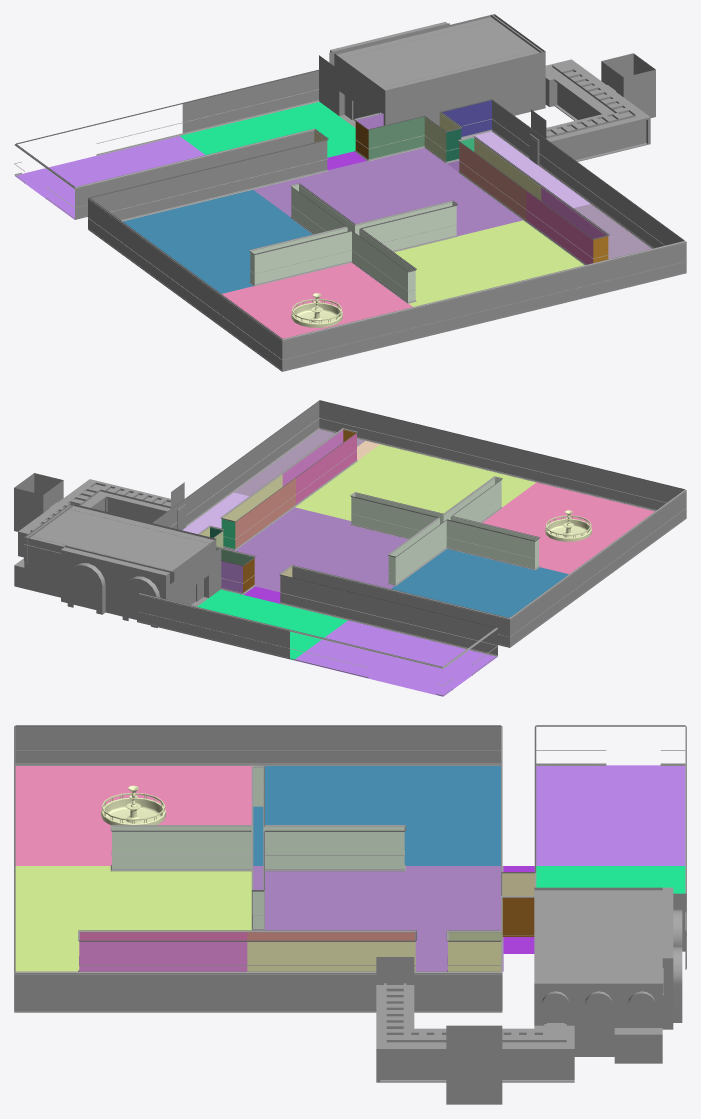
File: Level2.2.fbx
3 renders of one model, top to bottom at view 1: azimuth 30°, elevation 25°; view 2: azimuth 150°, elevation 25°; view 3: azimuth 270°, elevation 25°, orthographic. The views are drawn at different scales.
Parts seen in each view (by area): view 1: polySurface12, polySurface8, polySurface15, polySurface17, Level1polySurface68, Level1polySurface75, polySurface6, polySurface53, polySurface14, polySurface11, polySurface55, polySurface47 (+34 smaller); view 2: polySurface8, polySurface17, polySurface12, polySurface14, polySurface6, polySurface15, Level1polySurface68, Level1polySurface77, polySurface55, polySurface11, polySurface53, polySurface47 (+33 smaller); view 3: polySurface15, polySurface17, polySurface12, polySurface6, polySurface14, polySurface8, Level1polySurface68, Level1polySurface78, polySurface58, polySurface42, polySurface44, polySurface43 (+27 smaller).
Part boxes in pixels (x1,y1,x2,y2): polySurface12: (253,148,522,235); polySurface8: (250,184,456,301); polySurface15: (123,190,312,293); polySurface17: (394,220,584,306); Level1polySurface68: (336,16,542,90); Level1polySurface75: (385,51,545,126); polySurface6: (222,263,412,338); polySurface53: (91,140,327,219); polySurface14: (14,136,205,219); polySurface11: (180,102,355,157); polySurface55: (75,130,314,219); polySurface47: (484,266,585,322); polySurface8: (351,478,538,584); polySurface17: (295,444,535,520); polySurface12: (235,507,407,592); polySurface14: (294,620,496,696); polySurface6: (482,482,654,573); polySurface15: (391,549,568,617); Level1polySurface68: (26,505,213,571); Level1polySurface77: (14,537,169,619); polySurface55: (280,575,497,656); polySurface11: (197,589,347,660); polySurface53: (292,566,509,647); polySurface47: (411,423,502,472); polySurface15: (253,766,500,865); polySurface17: (15,866,251,971); polySurface12: (253,866,503,971); polySurface6: (15,766,251,865); polySurface14: (536,765,685,865); polySurface8: (112,767,404,928); Level1polySurface68: (534,890,662,983); Level1polySurface78: (534,985,662,1056); polySurface58: (79,942,247,971); polySurface42: (14,973,136,1012); polySurface44: (136,973,258,1012); polySurface43: (258,973,376,1012).
Bounding box in the file's own units: 146 × 15.39 × 124.
